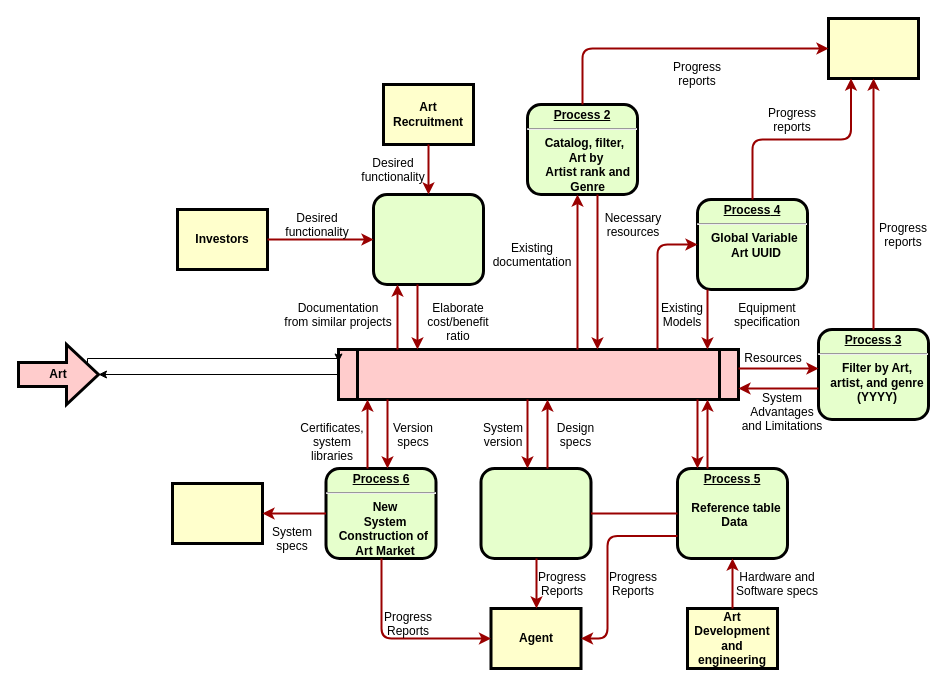
The diagram is 947 pixels wide and 687 high, and some of its shapes have lost their labels. Each missing label, with the box of its shape:
Art/Artist (My_musicalloves.accb) database: (336, 348, 740, 400)
Label Management: (826, 16, 920, 80)
Management and Development: (170, 482, 264, 544)
Proccess 1 Compile known musical Art and Artist: (372, 192, 484, 286)
Process 7 New File System Catalog Bin Testing: (479, 466, 592, 560)
